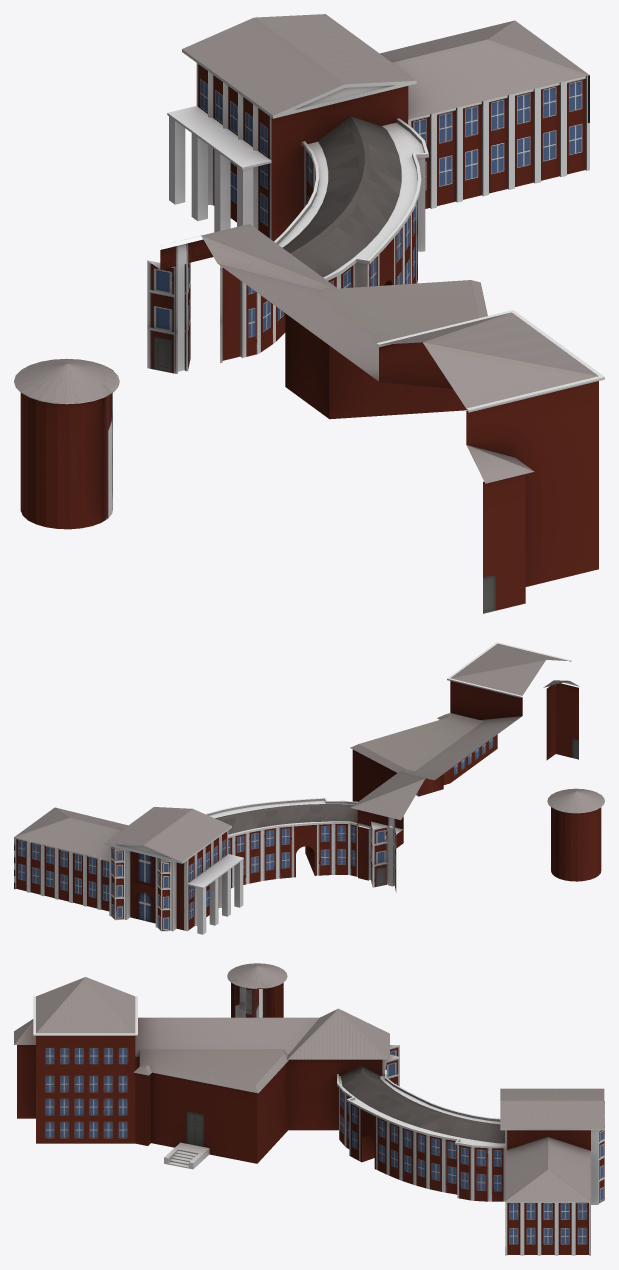
The model's file is PalacePratsi_h+l.gltf.
3 views of the same model, one above another, from view 1: azimuth 30°, elevation 25°; view 2: azimuth 150°, elevation 25°; view 3: azimuth 270°, elevation 25° (orthographic). The views are drawn at different scales.
Visible parts, largest first — view 1: 152f0cb1-13f5-4b1e-9ee4-1dc8ff341026; view 2: 152f0cb1-13f5-4b1e-9ee4-1dc8ff341026; view 3: 152f0cb1-13f5-4b1e-9ee4-1dc8ff341026.
Part boxes in pixels (x1=…): 152f0cb1-13f5-4b1e-9ee4-1dc8ff341026: x1=14, y1=14, x2=604, y2=613; 152f0cb1-13f5-4b1e-9ee4-1dc8ff341026: x1=14, y1=642, x2=604, y2=934; 152f0cb1-13f5-4b1e-9ee4-1dc8ff341026: x1=14, y1=963, x2=604, y2=1255.
Size of the model in its own units: 114 by 31.42 by 130.
5 materials, 5 textured.
